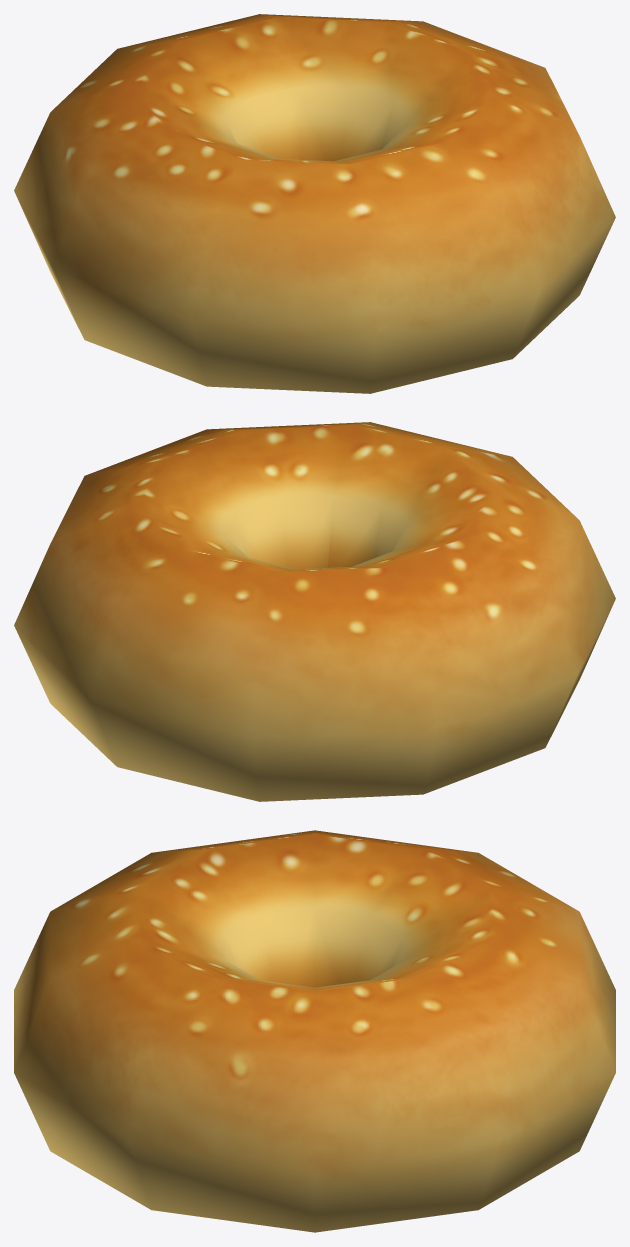
The model's file is Bagel.fbx.
3 renders of one model, top to bottom at view 1: azimuth 30°, elevation 25°; view 2: azimuth 150°, elevation 25°; view 3: azimuth 270°, elevation 25°, orthographic. The views are drawn at different scales.
Parts seen in each view (by area): view 1: Bagel; view 2: Bagel; view 3: Bagel.
Part boxes in pixels (x1=…): Bagel: x1=14, y1=14, x2=615, y2=393; Bagel: x1=14, y1=422, x2=615, y2=801; Bagel: x1=14, y1=830, x2=615, y2=1232.
Bounding box in the file's own units: 37.21 × 15.32 × 35.39.
